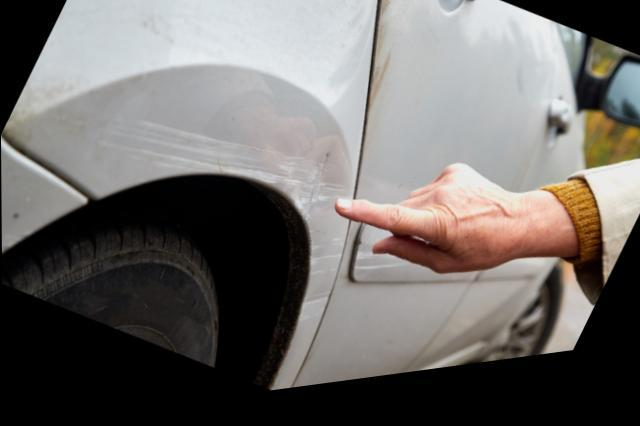dent: (287, 145, 350, 223)
scratch: (93, 116, 301, 194), (296, 236, 344, 332)
